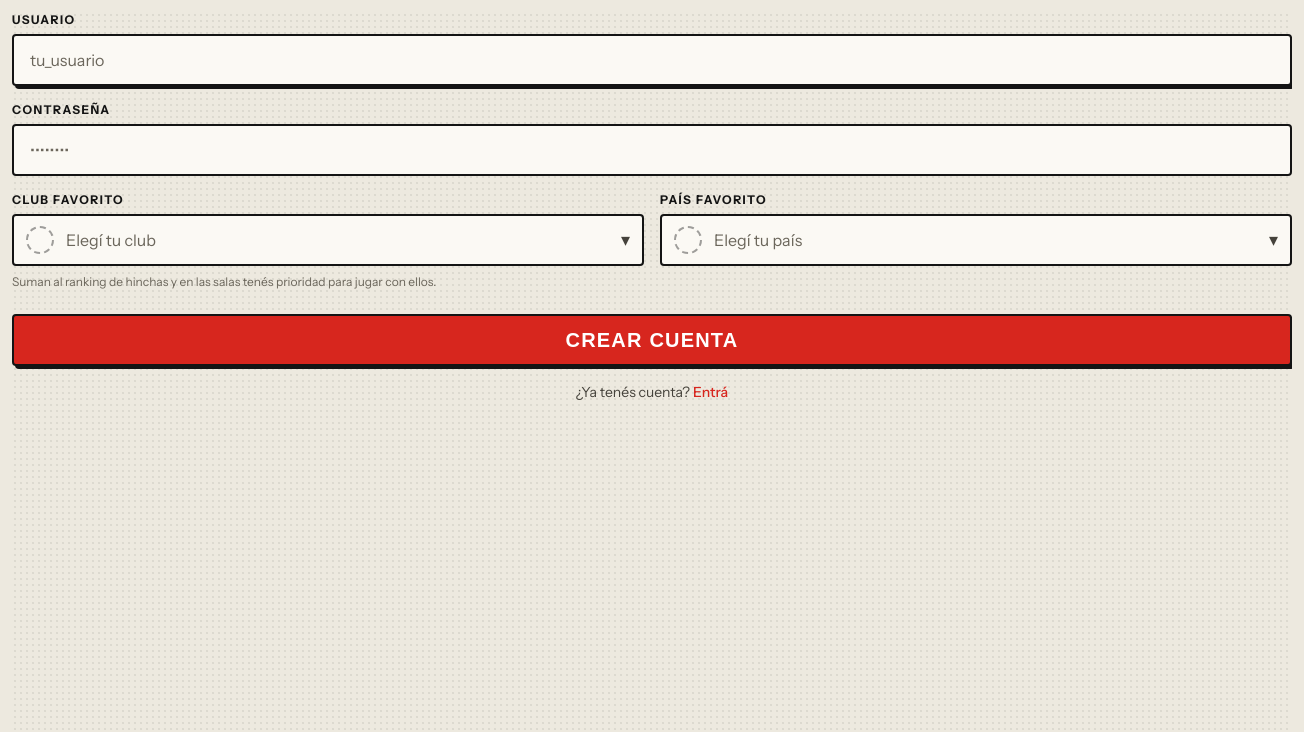
RegisterForm › disponibilidad: chequea una sola vez tras el debounce y marca 'Disponible ✓'
Later steps or results of the test are not shown.
Type "rosario" into the field labelled "Usuario".
click(652, 60); type("rosario")  # box [12,34,1292,86]
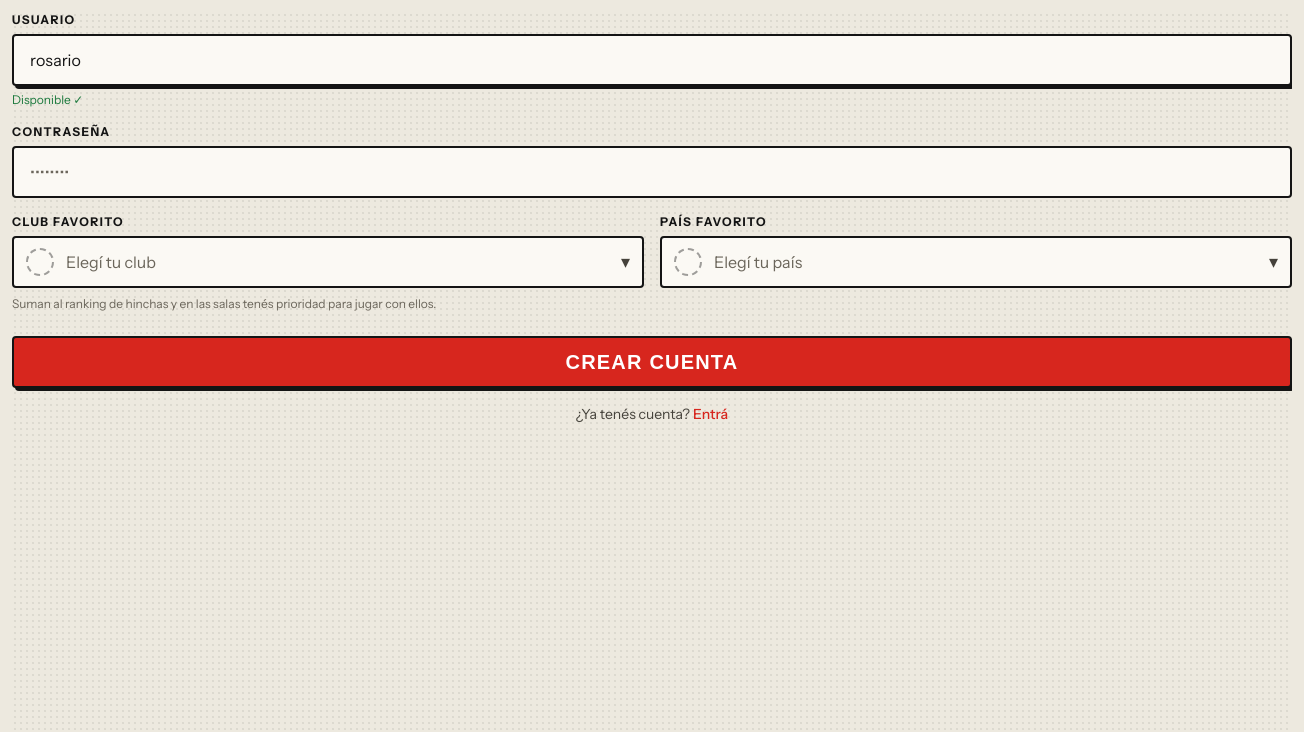
Expected: the text "Disponible ✓" is shown, [12,92,83,107]
